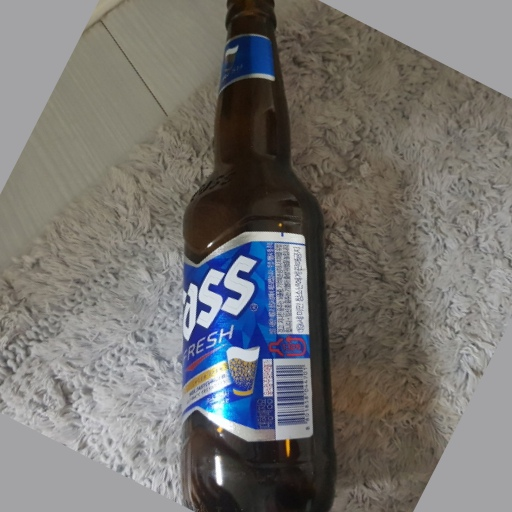Glass_1: (180, 2, 336, 512)
